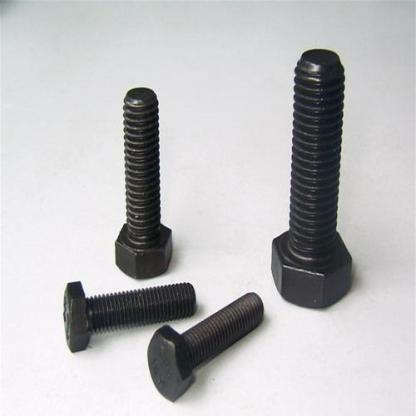FOD: (268, 48, 355, 312), (146, 289, 266, 404), (112, 85, 175, 283), (59, 276, 198, 356)
